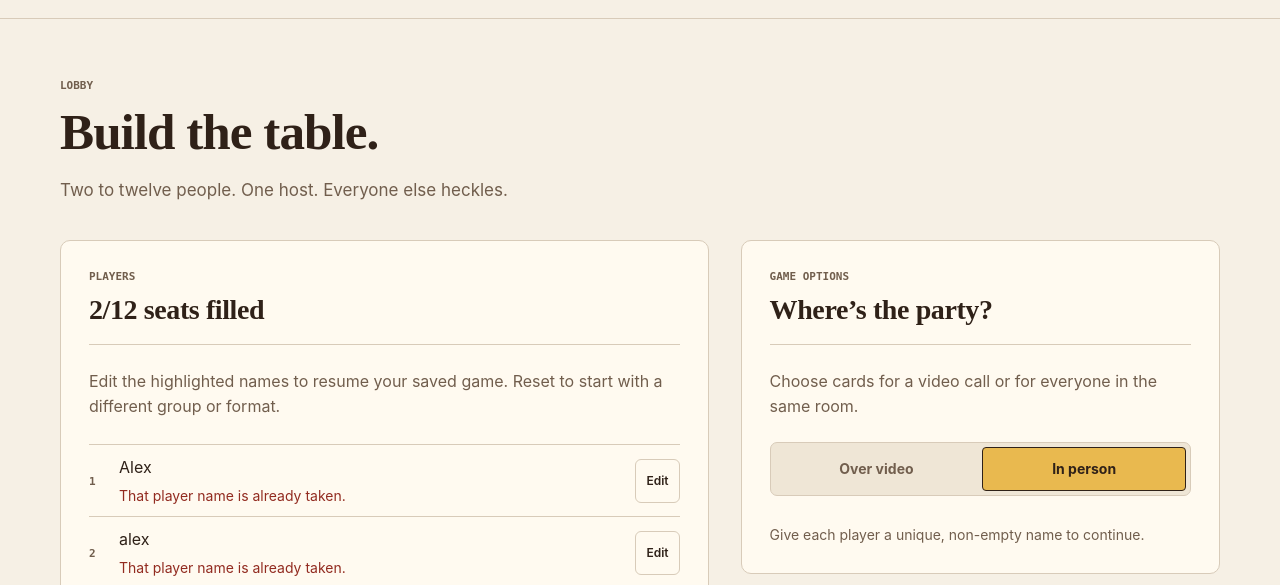
Test: repairing an invalid restored name alex preserves the saved round
The image size is (1280, 585).
Expected: the heading "Build the table." is shown, [60,103,378,160]
Click the button with aria-label "Edit alex".
click(658, 553)  # box [636,531,680,575]
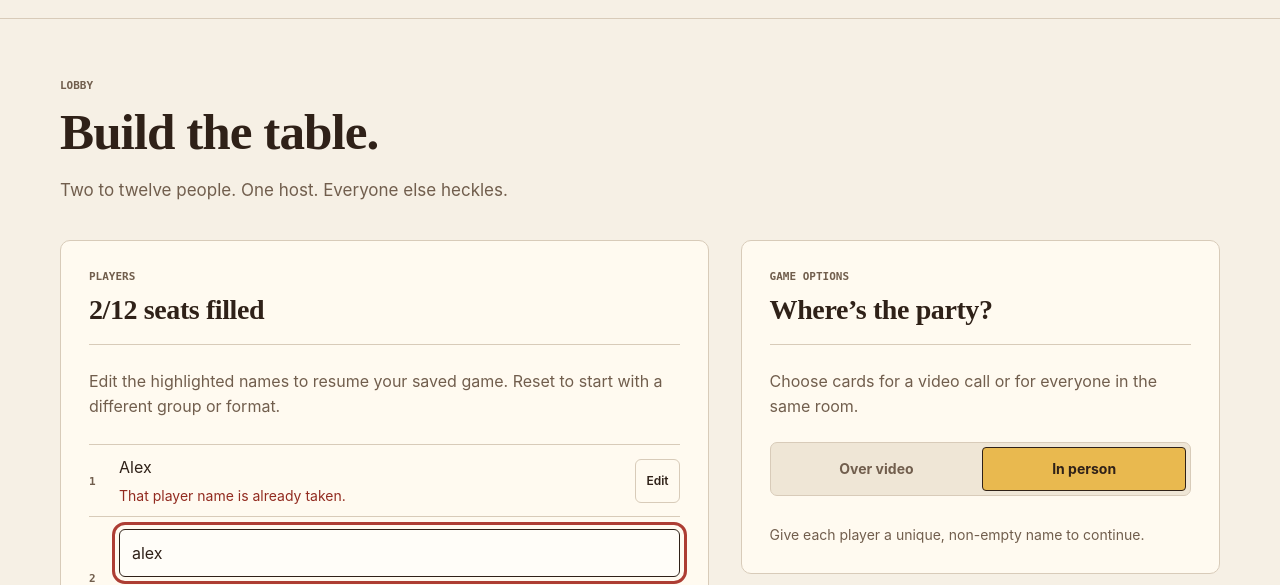
Replace the text in the field named "Rename alex" with "Sam" at [399, 553], box [119,529,680,577]
(page scrolled)
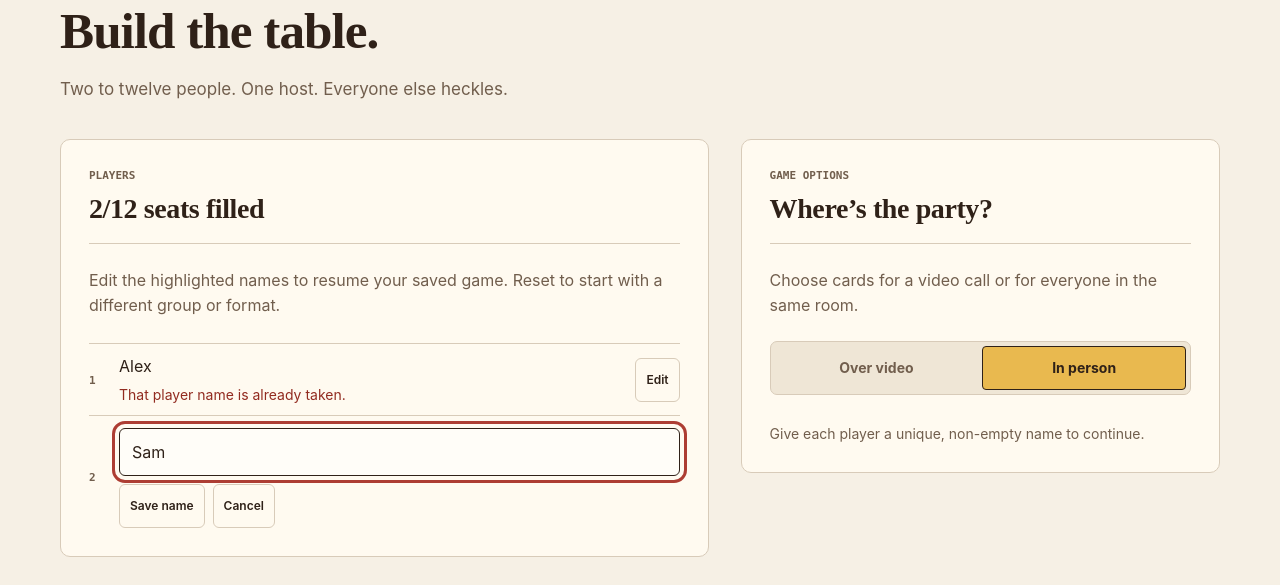
Click the button "Save name".
click(162, 506)  # box [119,484,205,528]
(page scrolled)
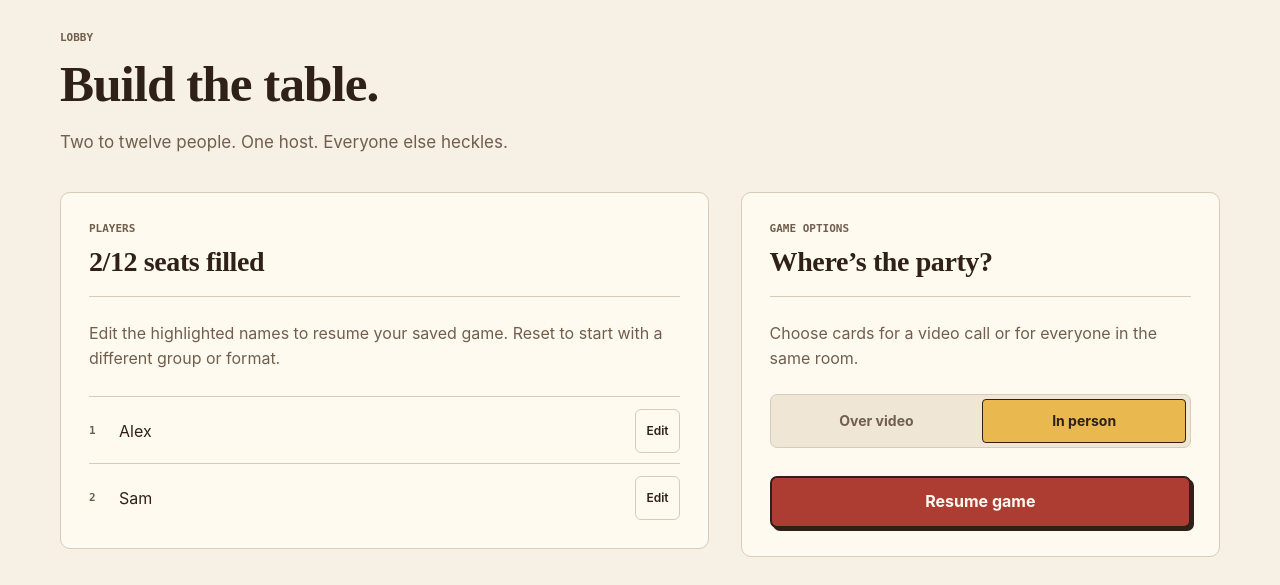
Click the button "Resume game".
click(980, 502)  # box [770,476,1191,528]
(page scrolled)
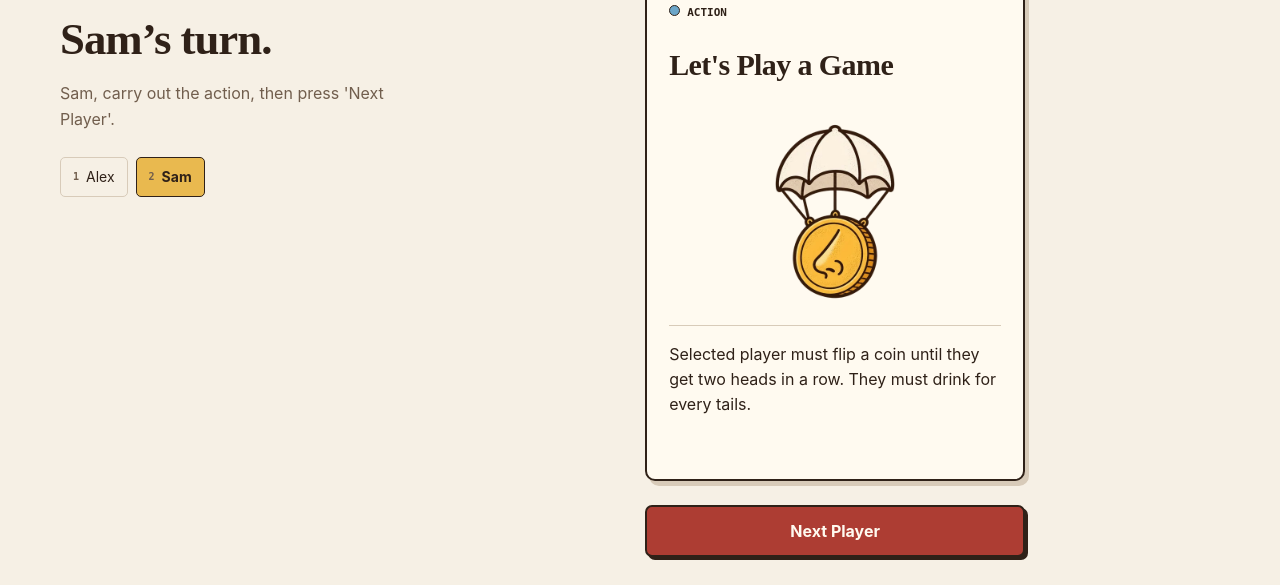
Expected: the heading "Sam’s turn." is shown, [60,14,271,64]
Expected: the heading "Let's Play a Game" is shown, [669,48,893,81]
